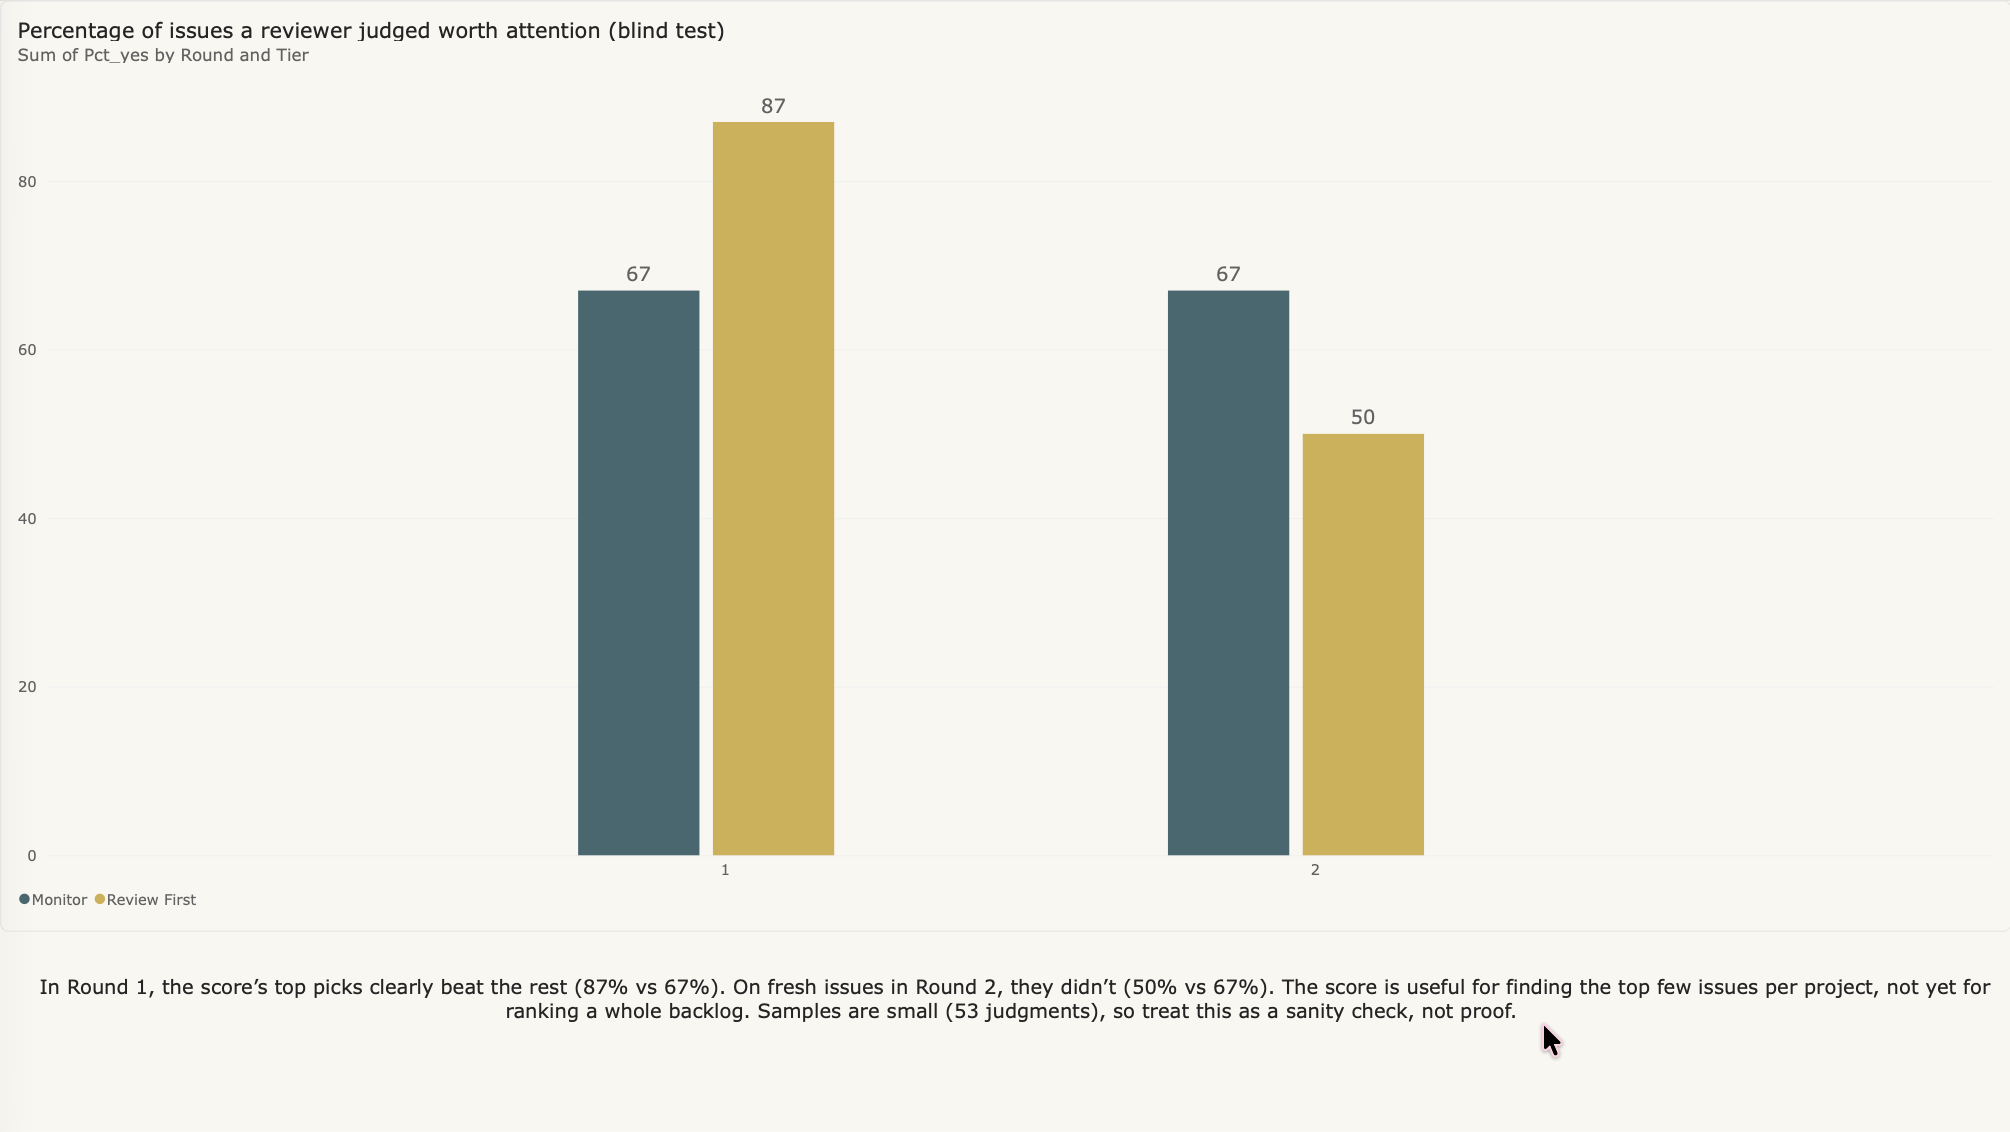

The page's visual inventory and layout, read from the dashboard file:
{"tool":"powerbi","page":{"name":"Does the Score Work?","canvas":[1920,1080],"ordinal":2},"visuals":[{"type":"clusteredColumnChart","title":"Percentage of issues a reviewer judged worth attention (blind test)","fields":{"Category":["Validation.Round"],"Series":["Validation.Tier"],"Y":["Sum(Validation.Pct_yes)"]},"box":[0,0,1920,888.8],"z":0},{"type":"textbox","box":[11.4,928.7,1908.6,79.8],"z":1}]}

Visuals, with their boxes in screenshot pixels (x1, y1, x2, y2), scaled from the page's 1920x1080 canvas onto the 2010x1132 screenshot:
"Percentage of issues a reviewer judged worth attention (blind test)" clusteredColumnChart: crop(0, 0, 2009, 932)
textbox: crop(12, 973, 2009, 1057)
